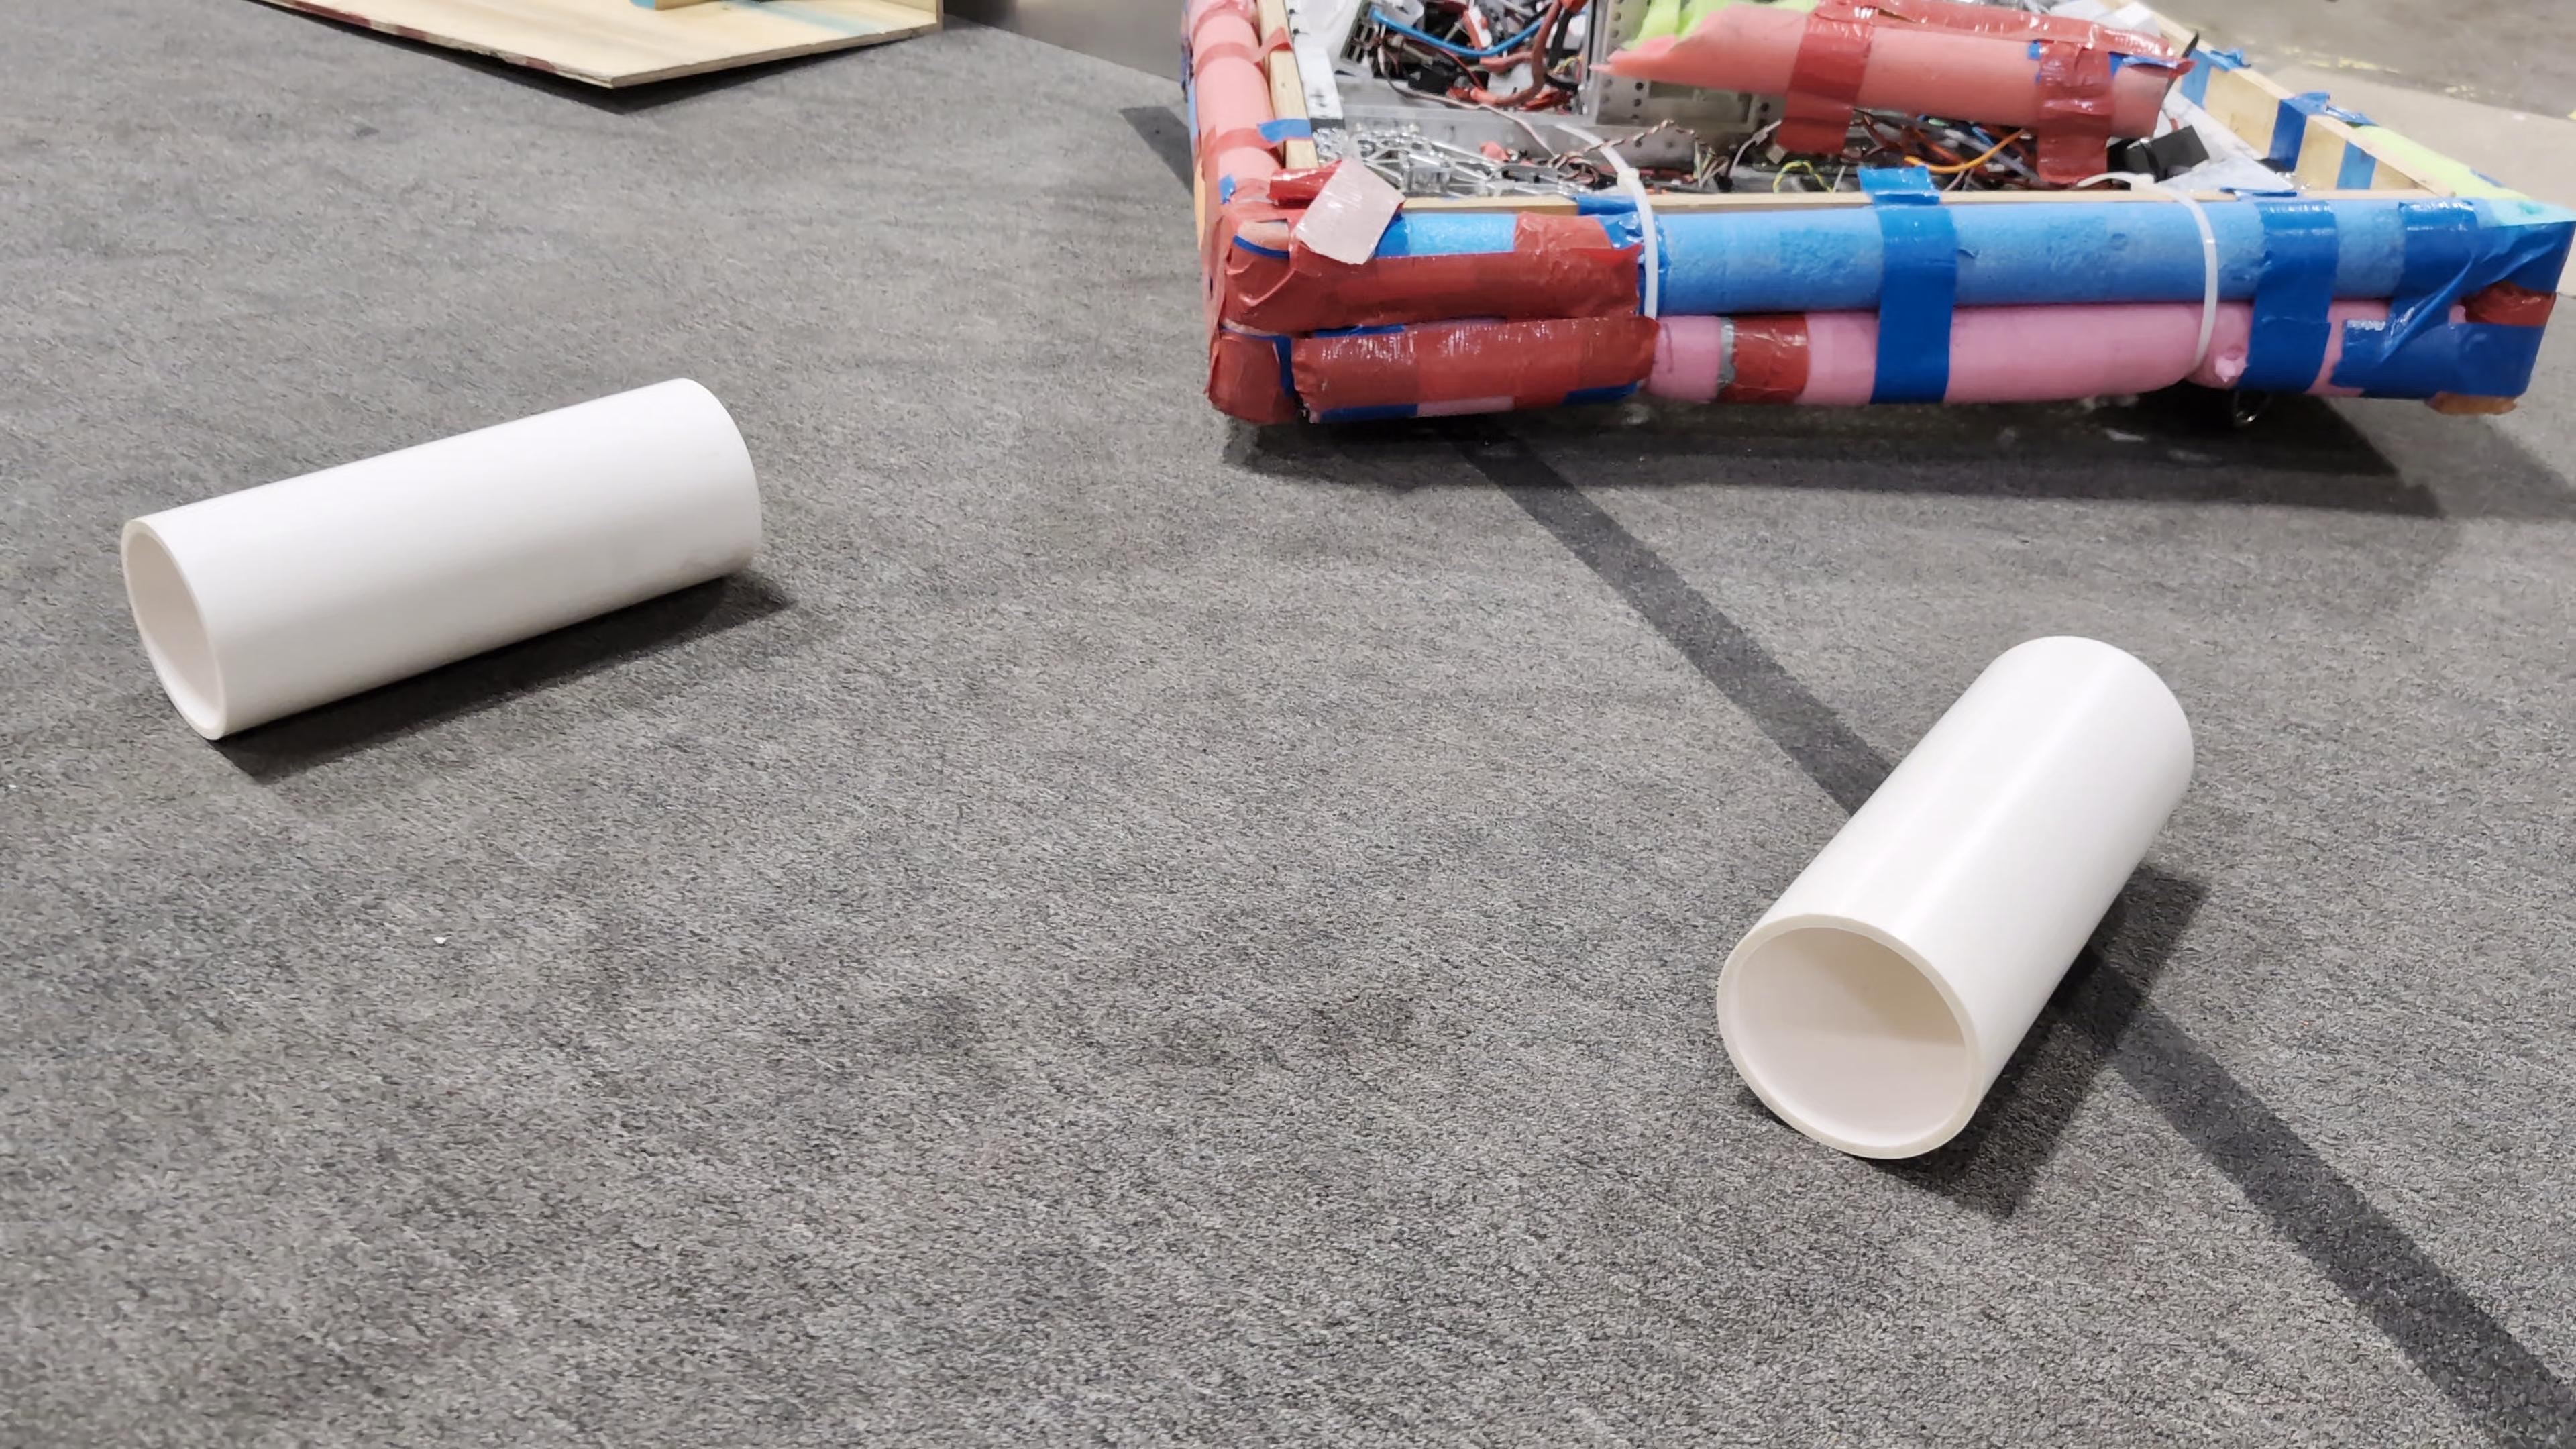coral: (1718, 630, 2199, 1159), (120, 373, 764, 743)
